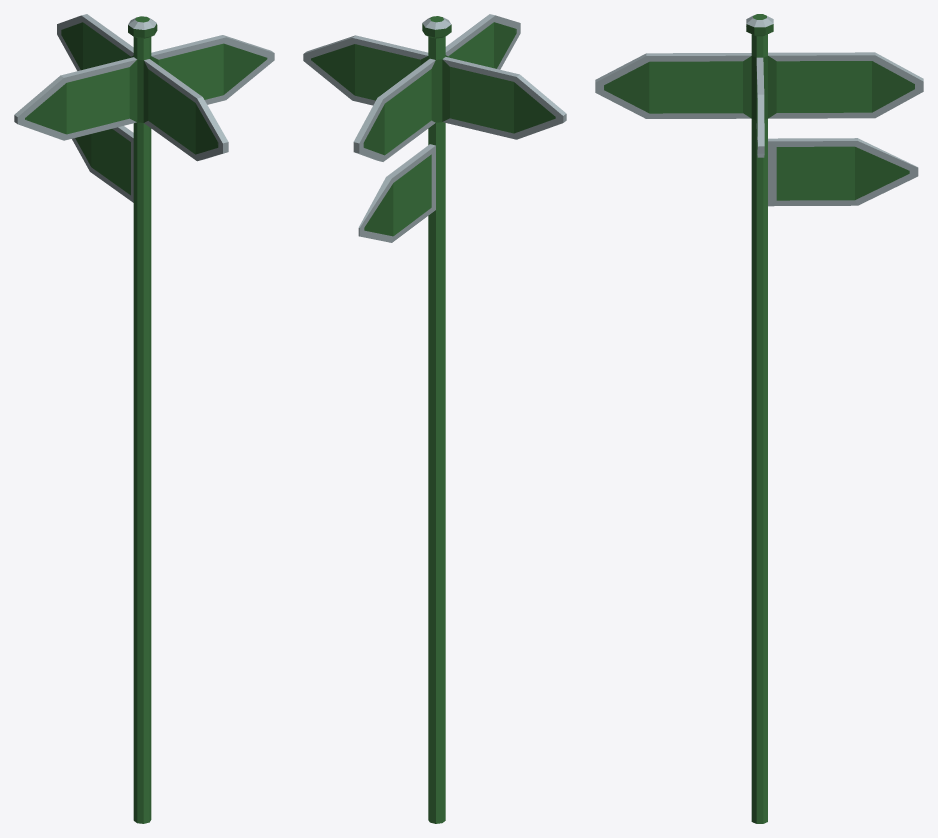
Rendered from Signage.fbx.
3 renders of one model, left to right at view 1: azimuth 30°, elevation 25°; view 2: azimuth 150°, elevation 25°; view 3: azimuth 270°, elevation 25°, orthographic.
Parts seen in each view (by area): view 1: Cylinder.005; view 2: Cylinder.005; view 3: Cylinder.005.
Boxes of the visible parts, x1,y1,x2,y2 form: Cylinder.005: [14, 14, 274, 823]; Cylinder.005: [303, 14, 566, 823]; Cylinder.005: [595, 14, 923, 823].
Size of the model in its own units: 166 by 492 by 182.
